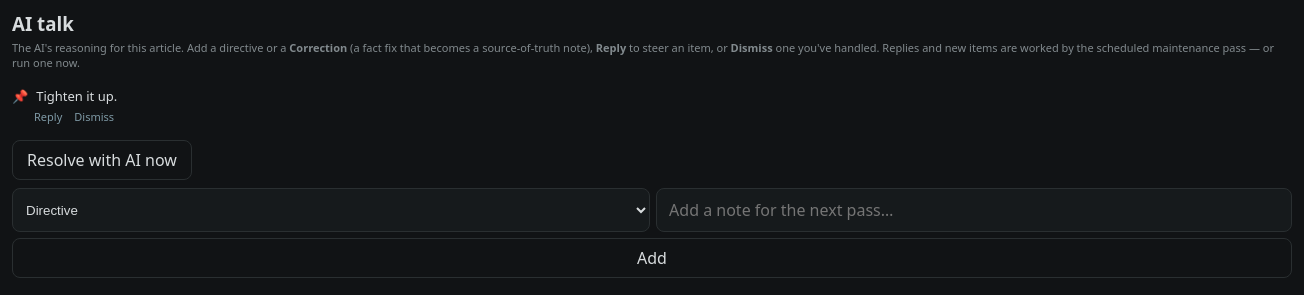
Test: TalkPanel — maintain now › runs the pass and reports a change + resolved count
Check: the text "Tighten it up." is shown, box [36,87,117,105]
Click the button "Resolve with AI now". click: (102, 160)
box: [12,140,192,180]
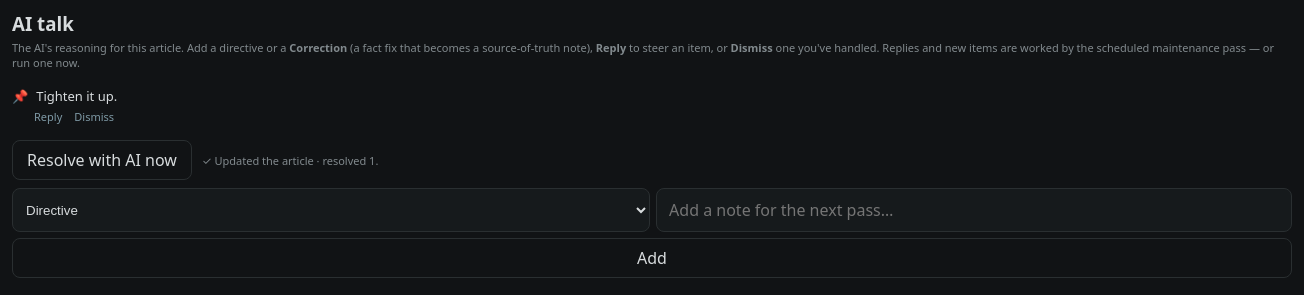
Check: the text "✓ Updated the article · resolved 1." is shown, box [202,152,378,168]
